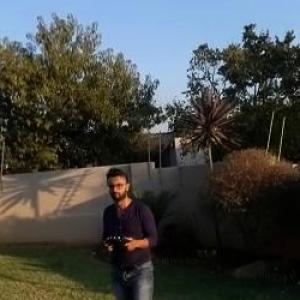follow: (98, 164, 163, 299)
